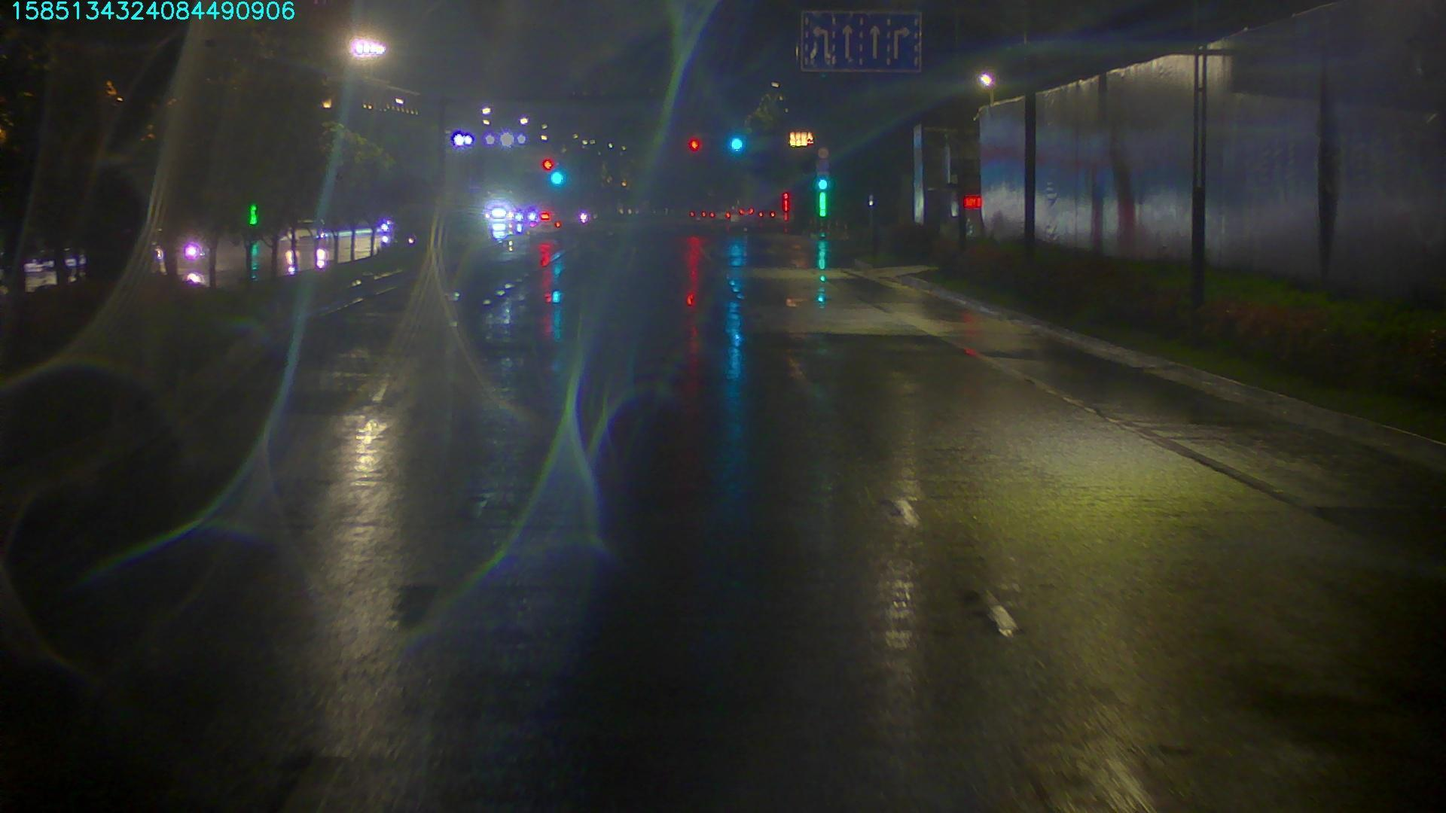green: (725, 133, 745, 157)
red: (679, 131, 700, 149)
